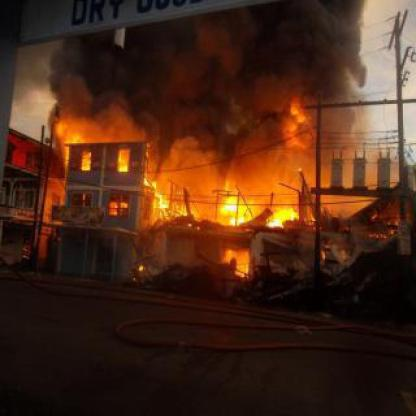Fire: (50, 109, 92, 177), (278, 94, 321, 156), (213, 180, 251, 236), (267, 185, 304, 239), (143, 168, 174, 225), (118, 147, 130, 177)
Smoke: (45, 0, 375, 110)
